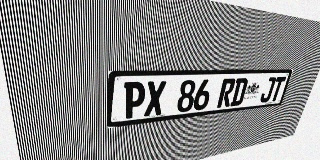6: (192, 79, 213, 111)
8: (176, 80, 197, 113)
D: (230, 78, 249, 106)
J: (259, 77, 277, 103)
P: (123, 81, 146, 119)
R: (217, 78, 236, 108)
T: (269, 77, 286, 102)
X: (144, 81, 166, 117)
